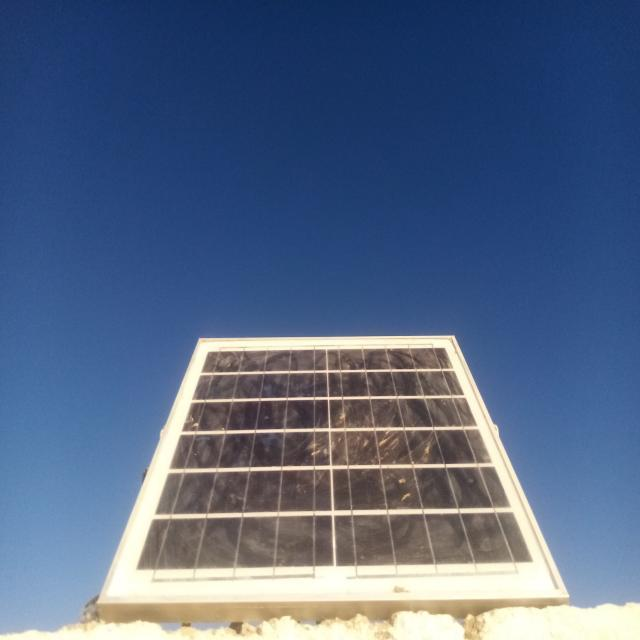faulty: (102, 338, 566, 603)
